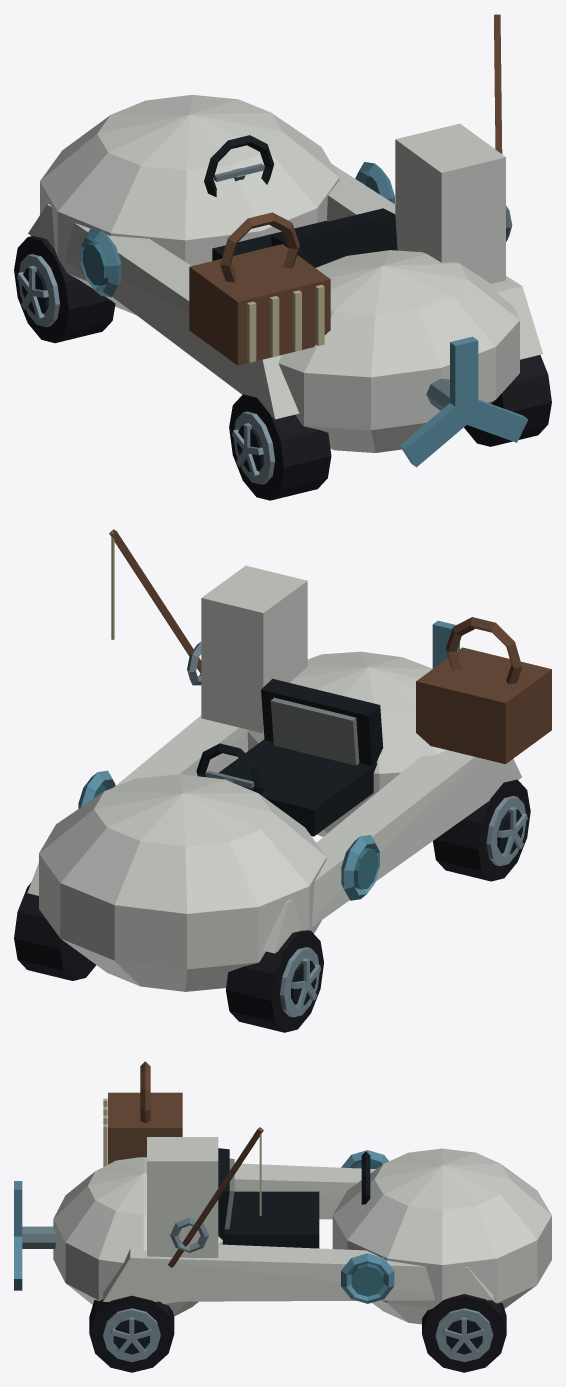
The model's file is kart.glb.
The picture shows the model from 3 angles, top to bottom: view 1: azimuth 30°, elevation 25°; view 2: azimuth 150°, elevation 25°; view 3: azimuth 270°, elevation 25°; orthographic projection. The views are drawn at different scales.
Visible parts, largest first — view 1: identity-submarine-submarine-rounded-bow-and-stern-propeller, identity-submarine-motif-basket, wheel-rear-left, wheel-front-left, identity-submarine-driver-cockpit, wheel-rear-right, identity-submarine-motif-fishing; view 2: identity-submarine-submarine-rounded-bow-and-stern-propeller, identity-submarine-driver-cockpit, identity-submarine-motif-basket, wheel-front-left, wheel-rear-left, wheel-front-right, identity-submarine-motif-fishing; view 3: identity-submarine-submarine-rounded-bow-and-stern-propeller, identity-submarine-driver-cockpit, wheel-rear-right, wheel-front-right, identity-submarine-motif-basket, identity-submarine-motif-fishing.
Boxes of the visible parts, x1=… form: identity-submarine-submarine-rounded-bow-and-stern-propeller: x1=28, y1=95, x2=542, y2=467; identity-submarine-motif-basket: x1=189, y1=212, x2=330, y2=365; wheel-rear-left: x1=229, y1=394, x2=331, y2=500; wheel-front-left: x1=14, y1=236, x2=115, y2=343; identity-submarine-driver-cockpit: x1=204, y1=135, x2=397, y2=267; wheel-rear-right: x1=464, y1=355, x2=551, y2=446; identity-submarine-motif-fishing: x1=494, y1=14, x2=512, y2=241; identity-submarine-submarine-rounded-bow-and-stern-propeller: x1=27, y1=565, x2=521, y2=991; identity-submarine-driver-cockpit: x1=196, y1=678, x2=383, y2=836; identity-submarine-motif-basket: x1=416, y1=617, x2=551, y2=764; wheel-front-left: x1=226, y1=930, x2=323, y2=1032; wheel-rear-left: x1=433, y1=779, x2=530, y2=881; wheel-front-right: x1=14, y1=882, x2=96, y2=980; identity-submarine-motif-fishing: x1=109, y1=529, x2=201, y2=685; identity-submarine-submarine-rounded-bow-and-stern-propeller: x1=14, y1=1137, x2=551, y2=1324; identity-submarine-driver-cockpit: x1=218, y1=1148, x2=370, y2=1248; wheel-rear-right: x1=89, y1=1295, x2=174, y2=1372; wheel-front-right: x1=422, y1=1294, x2=506, y2=1372; identity-submarine-motif-basket: x1=103, y1=1061, x2=182, y2=1166; identity-submarine-motif-fishing: x1=168, y1=1127, x2=263, y2=1267.
Size of the model in its own units: 1.9 by 1.73 by 3.17.
